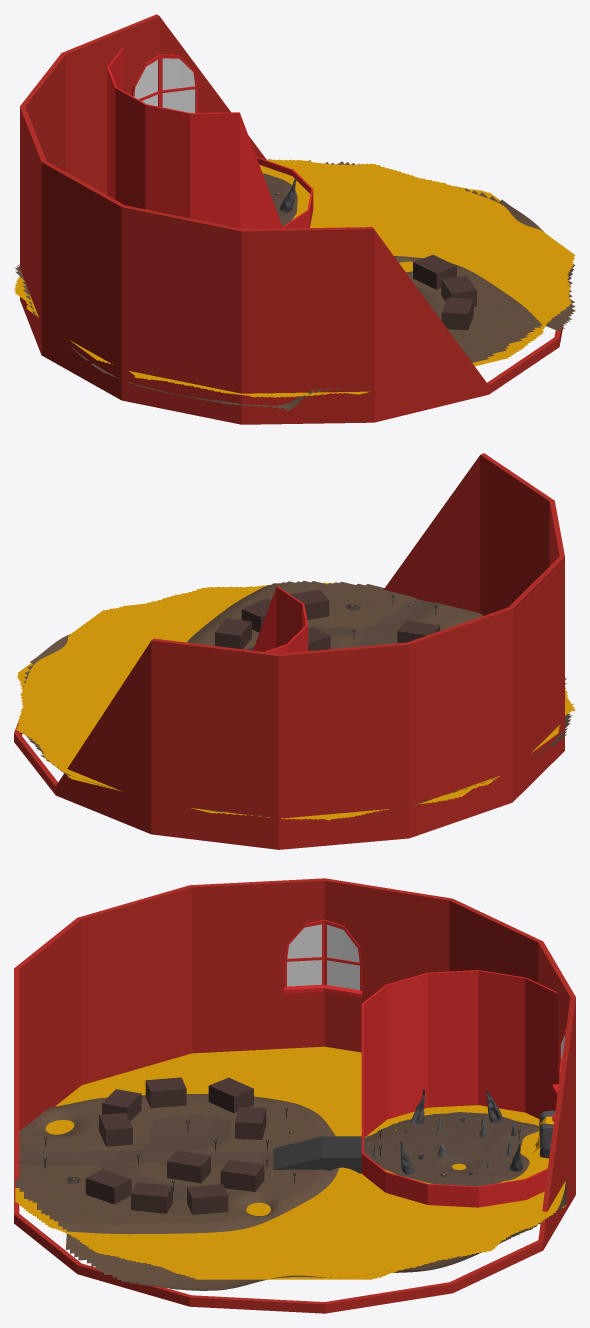
Rendered from FireScenario.fbx.
3 renders of one model, top to bottom at view 1: azimuth 30°, elevation 25°; view 2: azimuth 150°, elevation 25°; view 3: azimuth 270°, elevation 25°, orthographic. The views are drawn at different scales.
Visible parts, largest first — view 1: TowerWalls, LavaSubdividedCut, BossRoomWalls, TowerGround, Window, House.009, House.006, BossArenaGround, House.005, BossArenaLavaSubividedCut; view 2: TowerWalls, LavaSubdividedCut, TowerGround, BossRoomWalls, House.009, House.006, House.003, House.005; view 3: TowerWalls, LavaSubdividedCut, TowerGround, BossRoomWalls, BossArenaGround, Window.001, Ramp, BossArenaLavaSubividedCut, House.006, House.002, House.008, House.007 (+7 smaller).
Part boxes in pixels (x1,y1,x2,y2): TowerWalls: (20,14,563,424); LavaSubdividedCut: (14,159,575,397); BossRoomWalls: (107,48,313,228); TowerGround: (14,159,575,410); Window: (132,54,198,112); House.009: (413,254,456,289); House.006: (441,297,473,330); BossArenaGround: (262,173,297,226); House.005: (441,276,476,306); BossArenaLavaSubividedCut: (259,165,310,219); TowerWalls: (14,453,564,849); LavaSubdividedCut: (16,582,575,820); TowerGround: (23,581,571,822); BossRoomWalls: (253,586,308,653); House.009: (215,618,251,649); House.006: (290,589,329,619); House.003: (397,620,439,643); House.005: (241,598,271,632); TowerWalls: (14,878,575,1313); LavaSubdividedCut: (15,1046,566,1279); TowerGround: (15,1094,566,1290); BossRoomWalls: (361,970,558,1207); BossArenaGround: (364,1112,539,1186); Window.001: (283,919,362,997); Ramp: (273,1136,361,1173); BossArenaLavaSubividedCut: (365,1105,548,1183); House.006: (85,1169,131,1204); House.002: (208,1077,253,1113); House.008: (167,1150,210,1183); House.007: (220,1160,264,1191).
Size of what is drawn, in the model's own units: 122 by 47.54 by 122.
